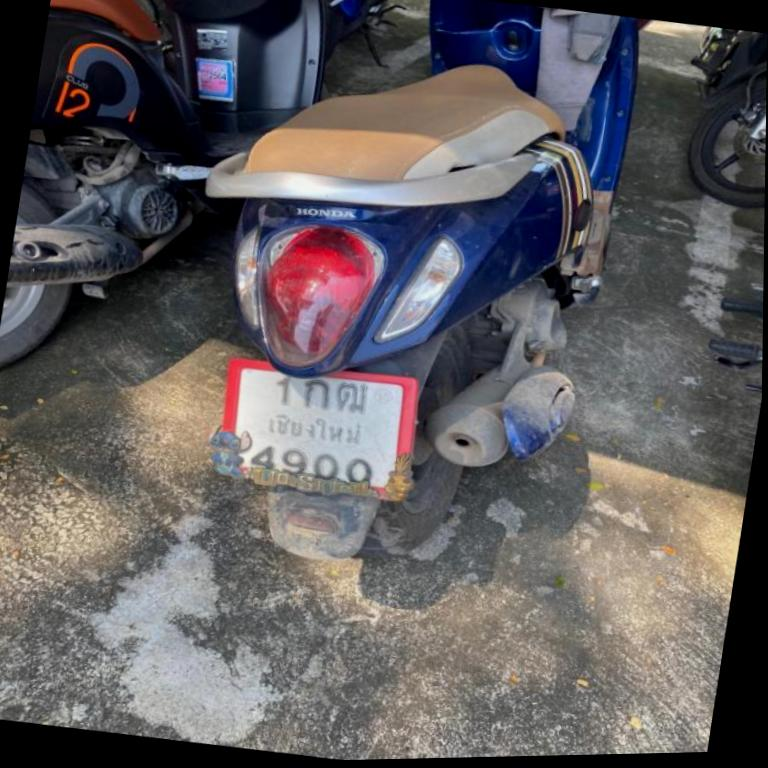license plate: (223, 361, 417, 496)
